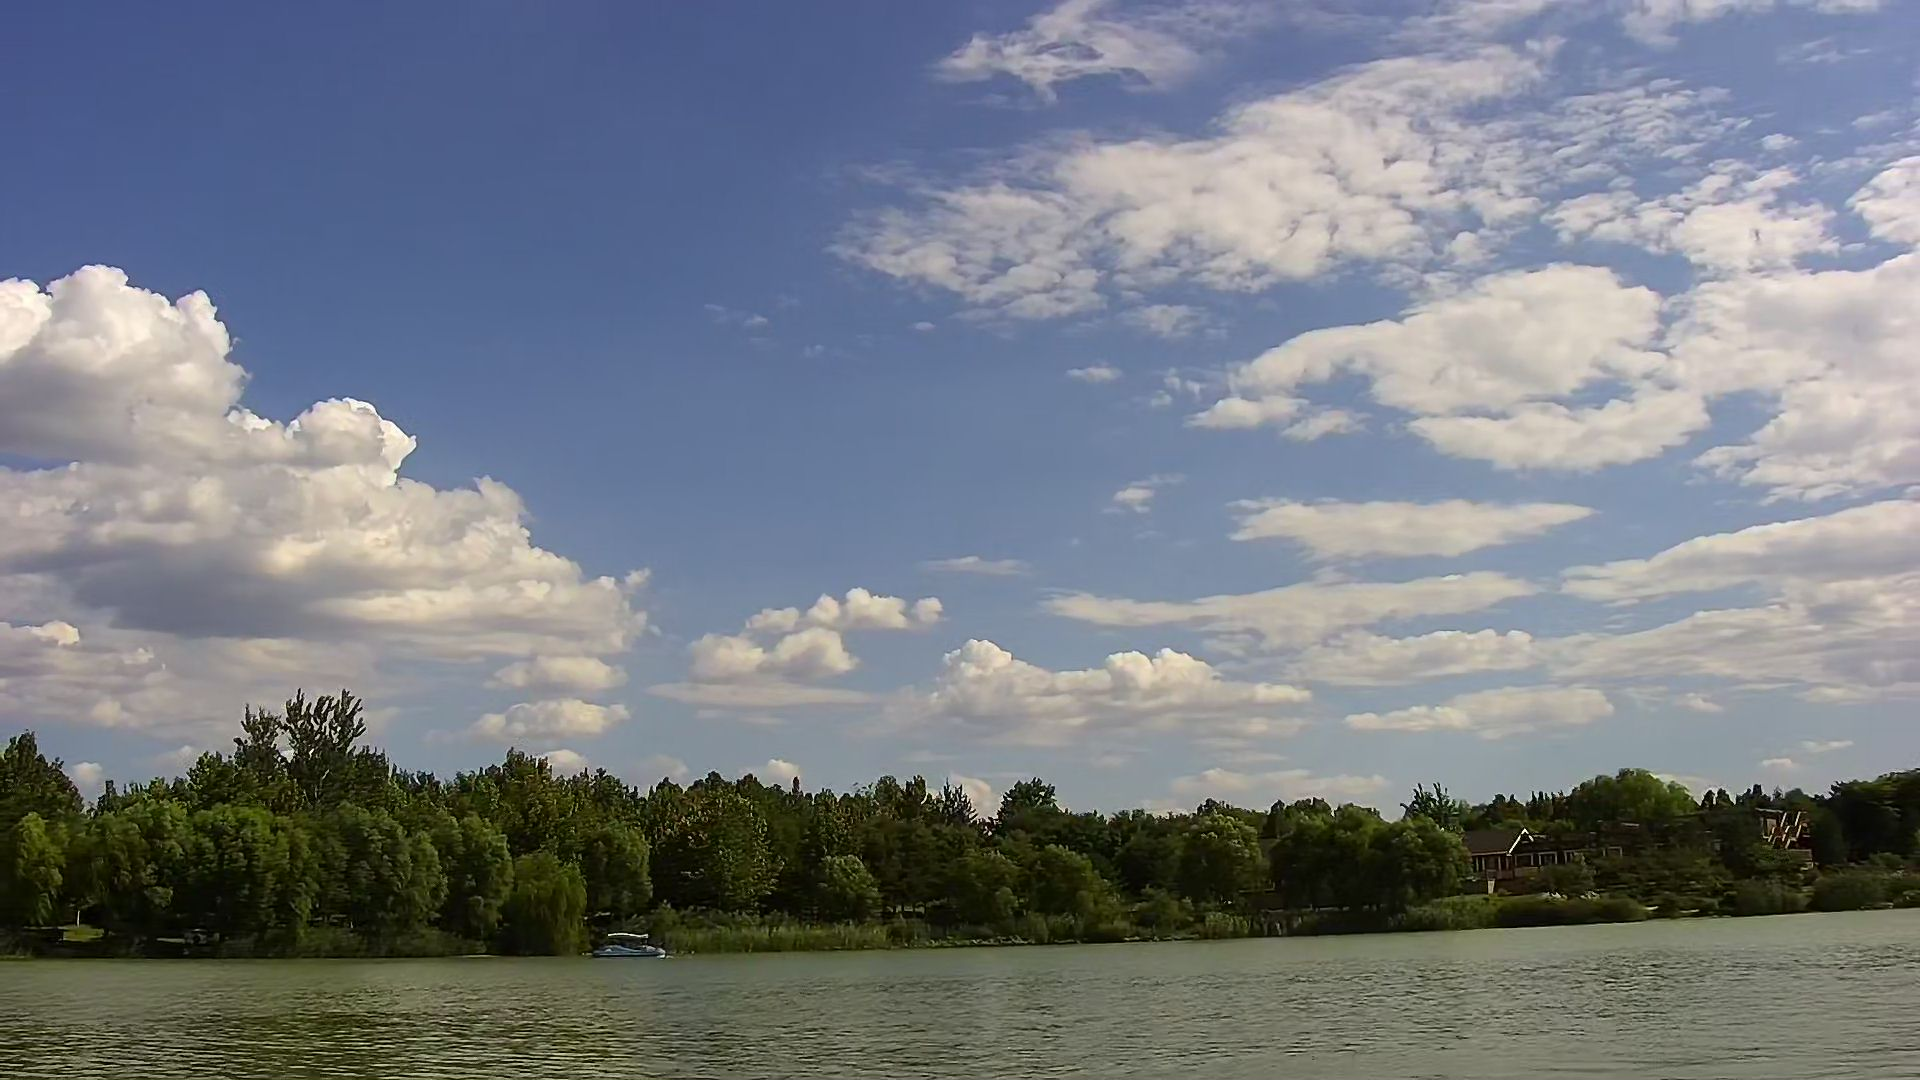boat: (574, 923, 674, 967)
